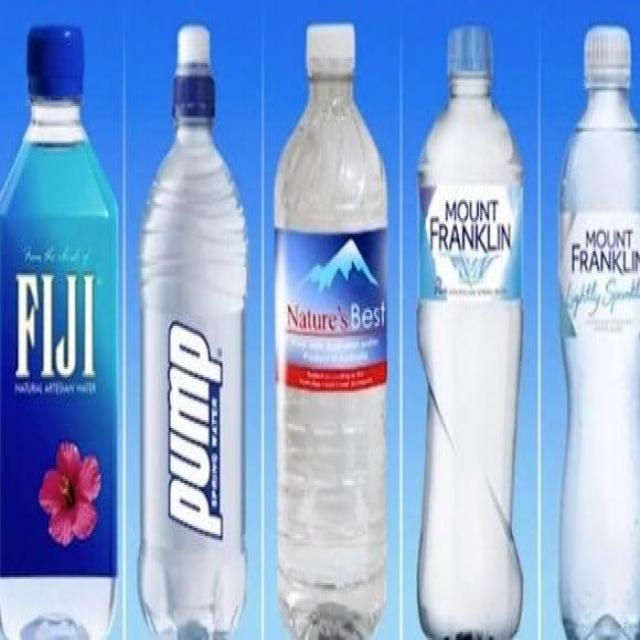plastic_bottle: (2, 24, 123, 640), (275, 22, 390, 638), (417, 26, 526, 640), (142, 28, 249, 638), (558, 29, 640, 640)
